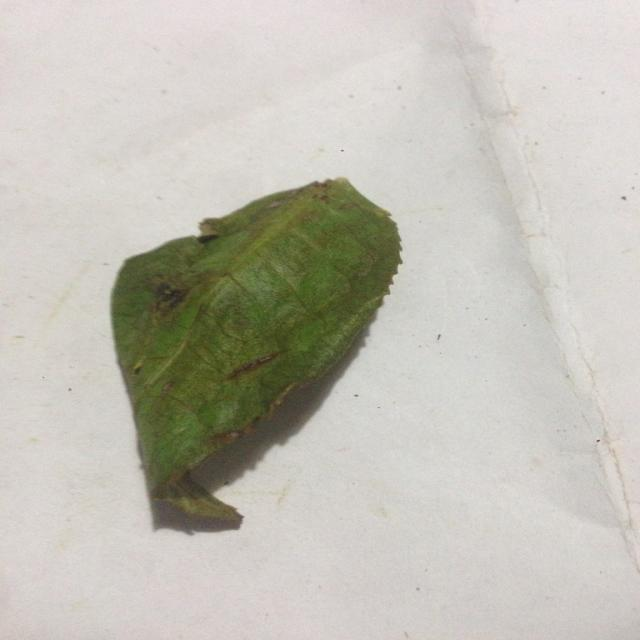Red Leaf Spot: (101, 165, 423, 548)
